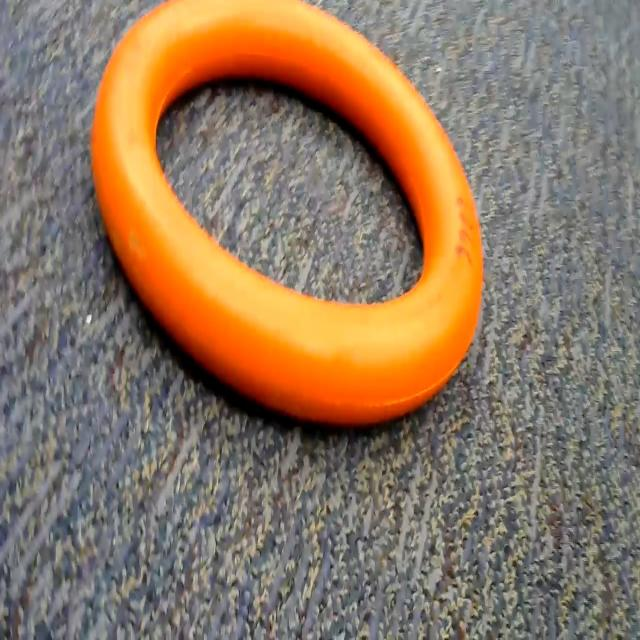note: (94, 0, 491, 424)
